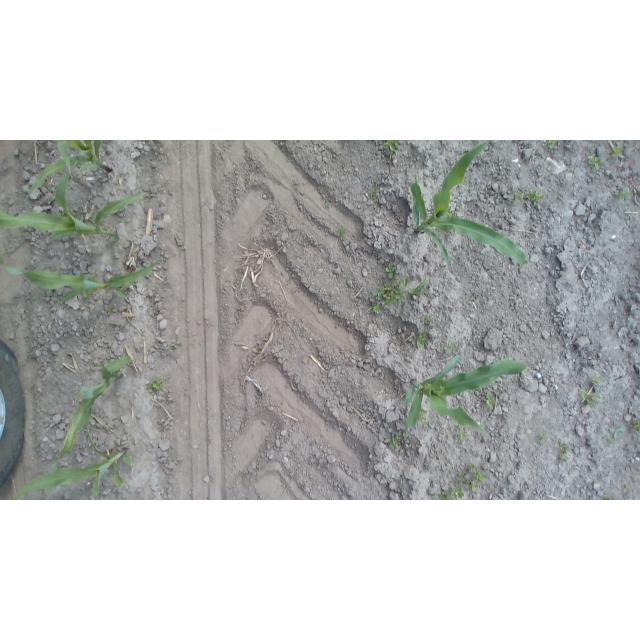Maize: (403, 140, 530, 272), (1, 161, 157, 252), (395, 355, 533, 440), (11, 424, 137, 500), (54, 354, 138, 463), (3, 256, 165, 305), (20, 143, 121, 204)
Weeds: (436, 464, 489, 500), (373, 278, 406, 315), (577, 388, 604, 410), (384, 429, 406, 452), (556, 440, 576, 465), (522, 187, 546, 205), (607, 421, 626, 443), (613, 183, 631, 206), (586, 155, 605, 176), (506, 188, 523, 207), (483, 390, 497, 412), (454, 425, 470, 444), (145, 377, 164, 393), (417, 327, 431, 348), (385, 262, 401, 279), (383, 141, 401, 156), (611, 146, 627, 162), (104, 304, 119, 321), (536, 429, 552, 444), (589, 373, 604, 388), (628, 417, 640, 435), (417, 407, 429, 423), (621, 482, 633, 497), (444, 340, 457, 353), (166, 340, 181, 351), (545, 140, 560, 150), (336, 226, 347, 239), (423, 315, 436, 326), (369, 187, 381, 198), (323, 199, 333, 211)
